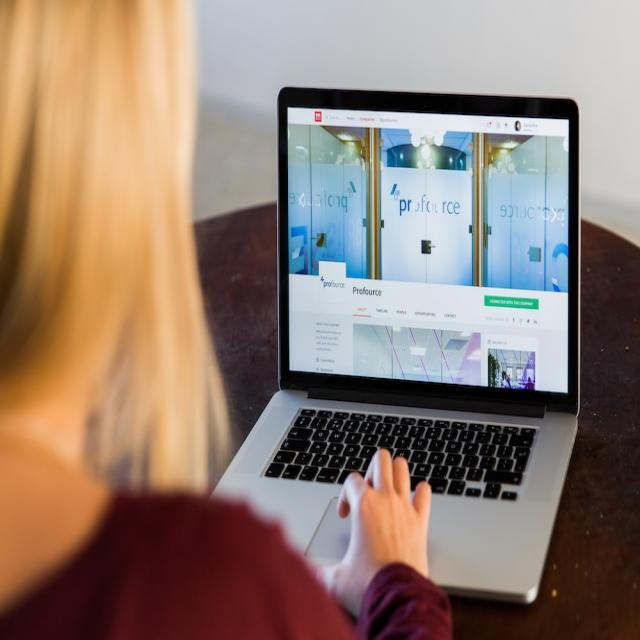keyboard-with-hands: (199, 398, 570, 589)
